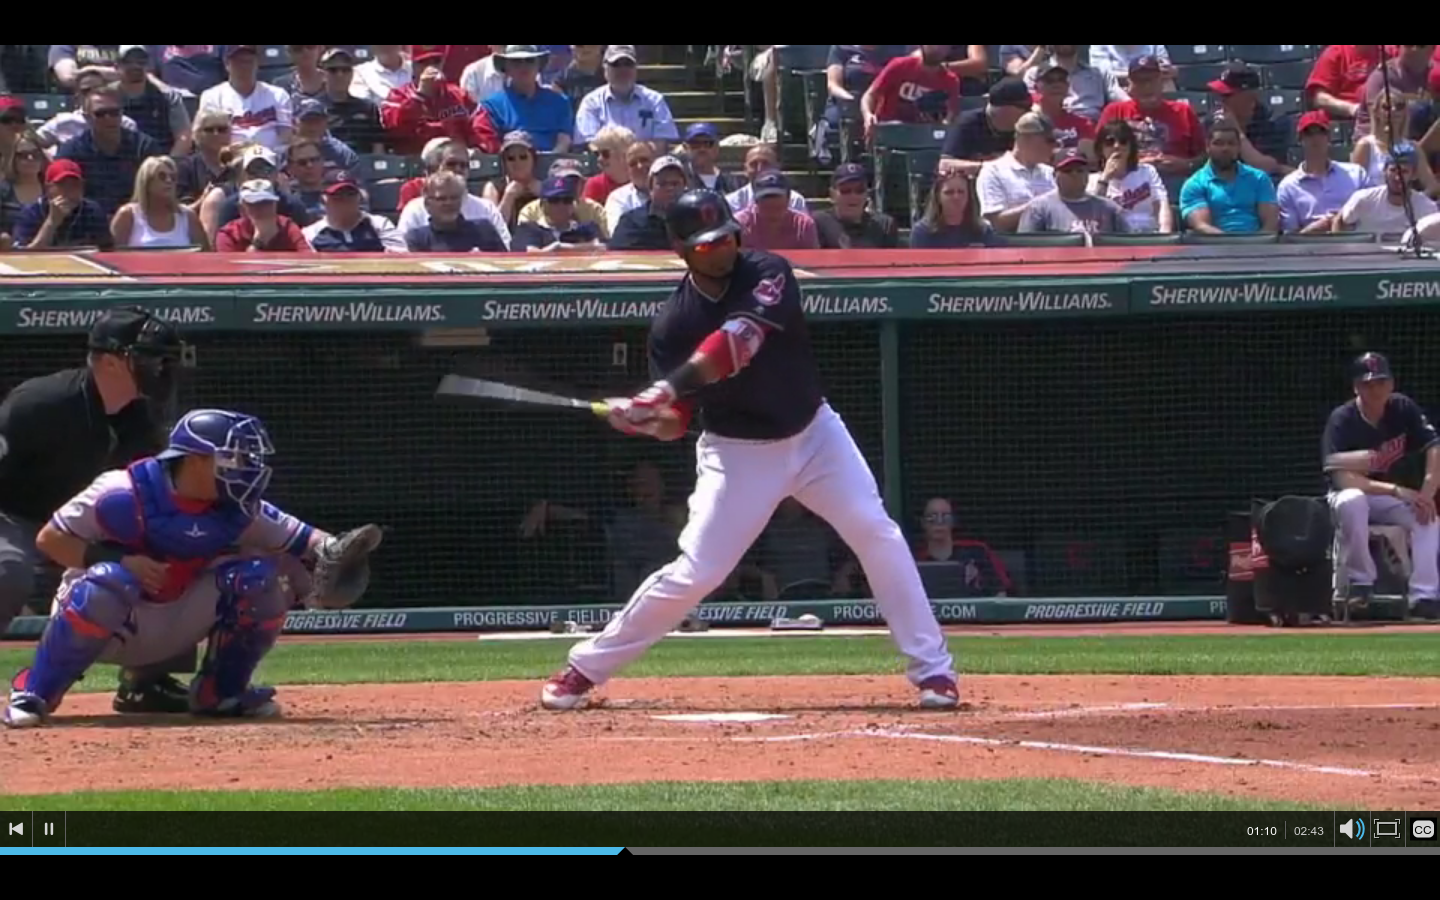baseball bat: (428, 369, 636, 426)
baseball player: (544, 188, 958, 714), (13, 409, 387, 720), (1321, 347, 1440, 623)
referee: (1, 305, 199, 626)
